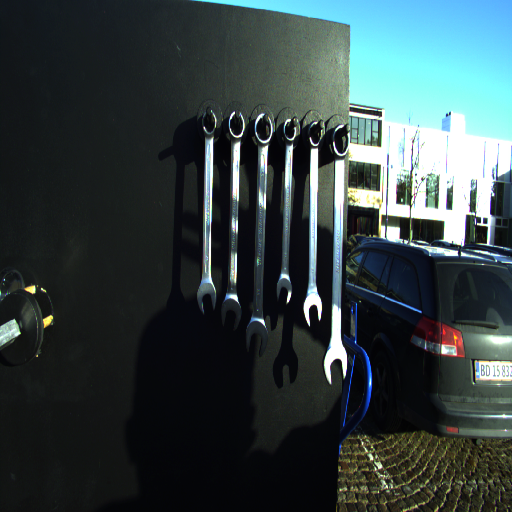bottom: (323, 347, 347, 386), (245, 321, 269, 358), (221, 297, 243, 331), (196, 282, 219, 314), (302, 294, 323, 328), (275, 277, 292, 304)
top: (330, 122, 351, 163), (251, 112, 274, 147), (198, 108, 221, 140), (226, 110, 247, 143), (306, 119, 323, 152), (280, 116, 299, 144)
